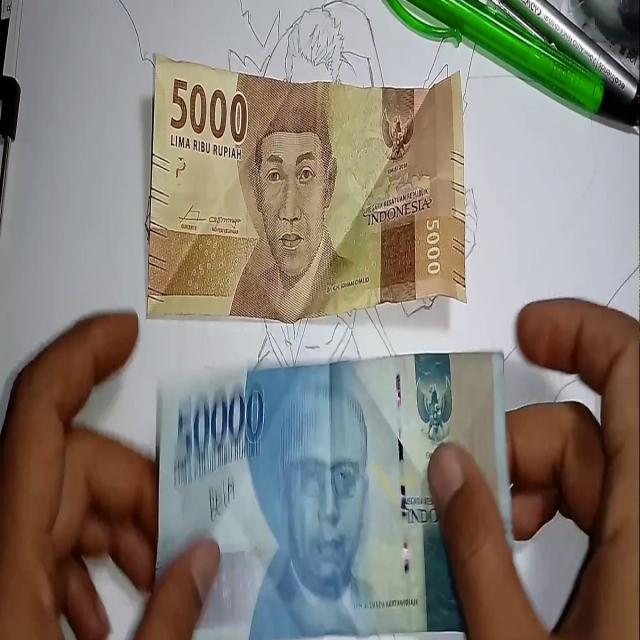lima puluh ribu rupiah: (156, 345, 512, 640)
lima ribu rupiah: (151, 46, 464, 311)
